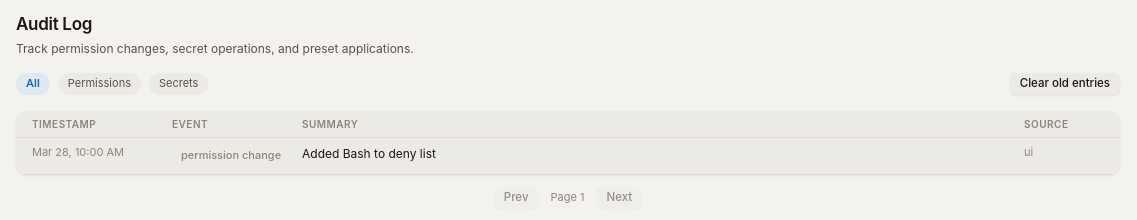
Test case: AuditLogPage — clear entries › clicking Cancel dismisses the confirmation prompt
The image size is (1137, 220).
Click the button "Clear old entries" at (1065, 84), box [1010,73,1120,95]
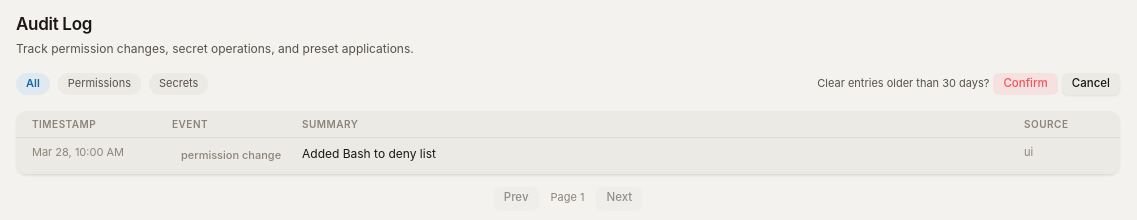
Expected: the text "Clear entries older than 30 days?" is shown, [817,76,989,92]
Click the button "Cancel" at (1091, 84), box [1062,73,1120,95]
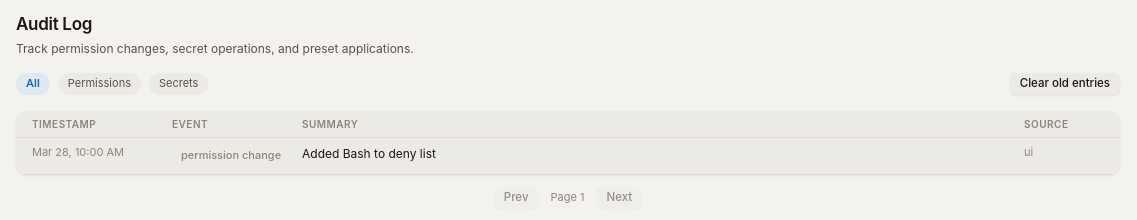
Expected: the text "Clear entries older than 30 days?" is gone
